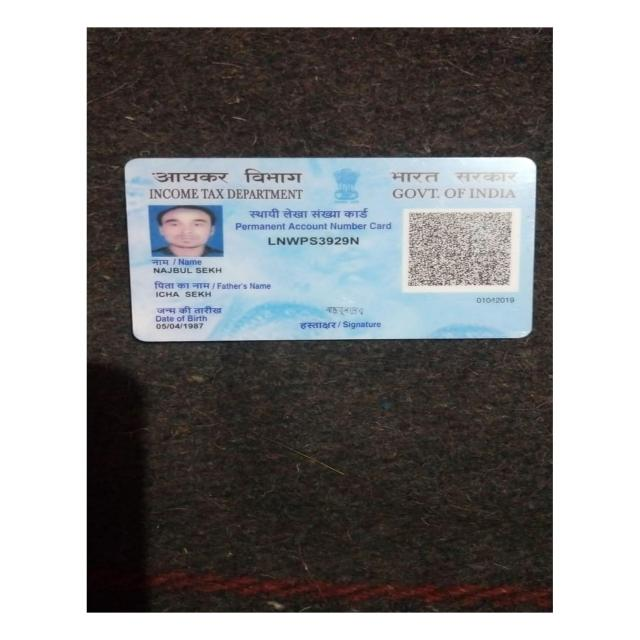pan_card: (126, 158, 537, 337)
